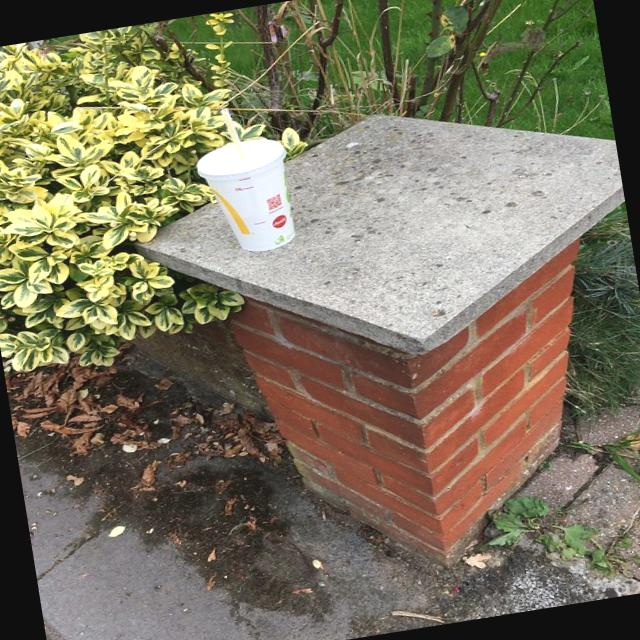Recycle: (192, 98, 304, 262)
